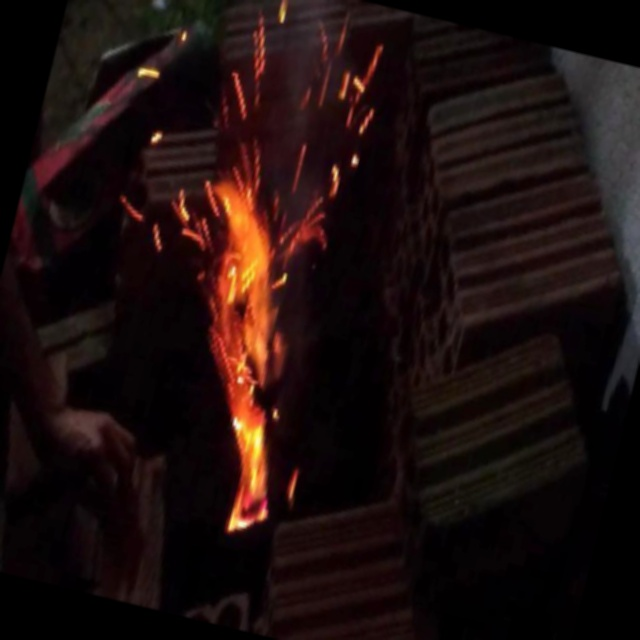fire: (116, 132, 384, 554)
